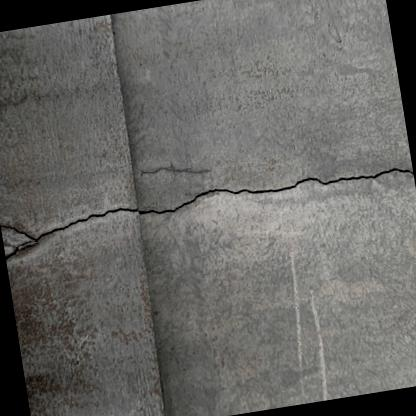crack: (0, 166, 413, 259)
